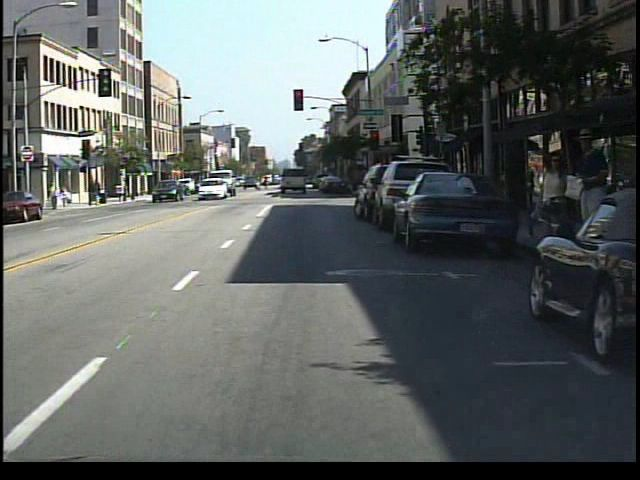person: (569, 122, 608, 279), (530, 145, 569, 281), (47, 181, 62, 214), (58, 184, 73, 211)
